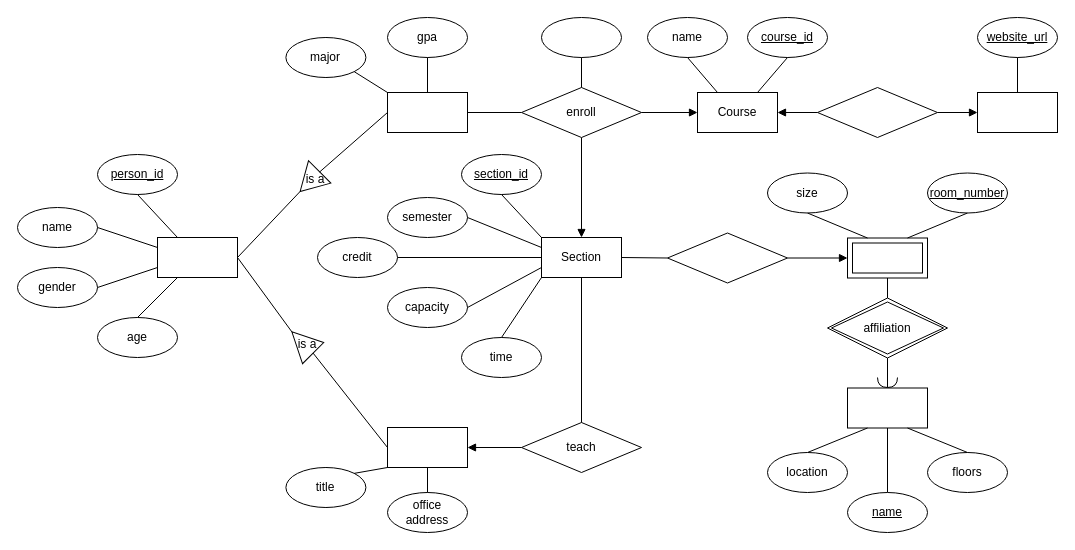
Image size: 1075x550. Some labels were removed from this diagram. Each missing label, with the box of its shape:
Building: (846, 387, 928, 428)
grade: (540, 16, 622, 58)
Instructor: (386, 426, 468, 468)
link: (816, 86, 938, 138)
located: (666, 232, 788, 283)
Person: (156, 236, 238, 278)
Room: (846, 237, 928, 278)
Student: (386, 92, 468, 132)
Website: (976, 92, 1058, 132)
